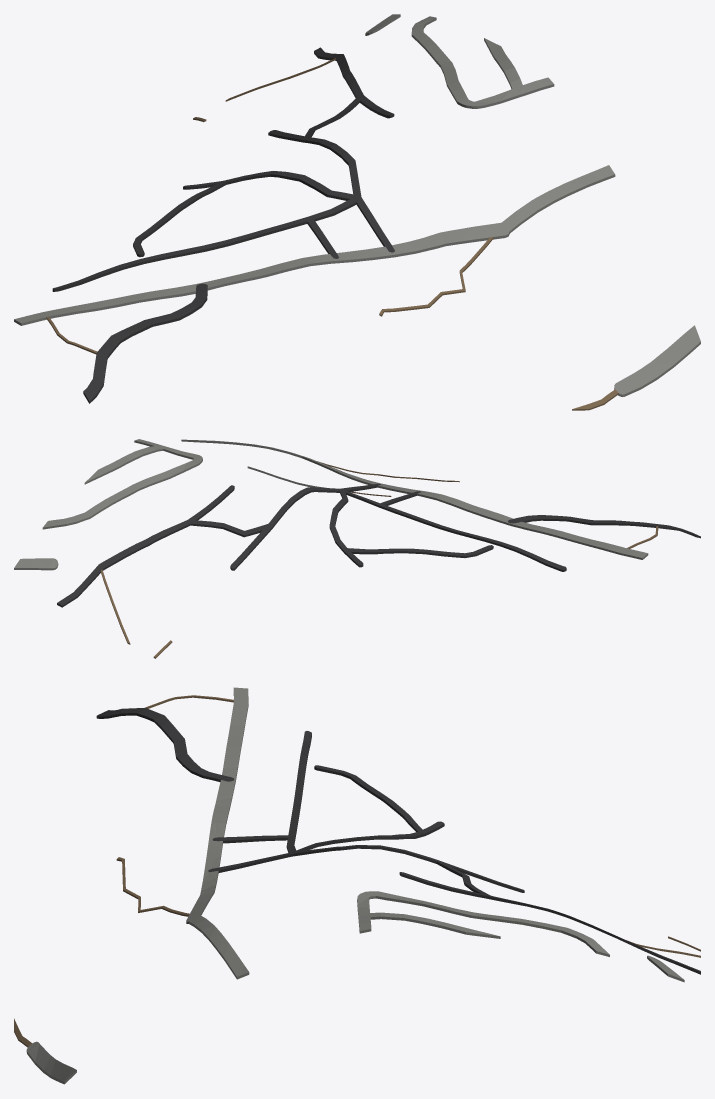
Rendered from 17-109438-59469.3fda6275.glb.
The picture shows the model from 3 angles, top to bottom: view 1: azimuth 30°, elevation 25°; view 2: azimuth 150°, elevation 25°; view 3: azimuth 270°, elevation 25°; orthographic projection. The views are drawn at different scales.
Bounding box in the file's own units: 293 × 81.76 × 292.
